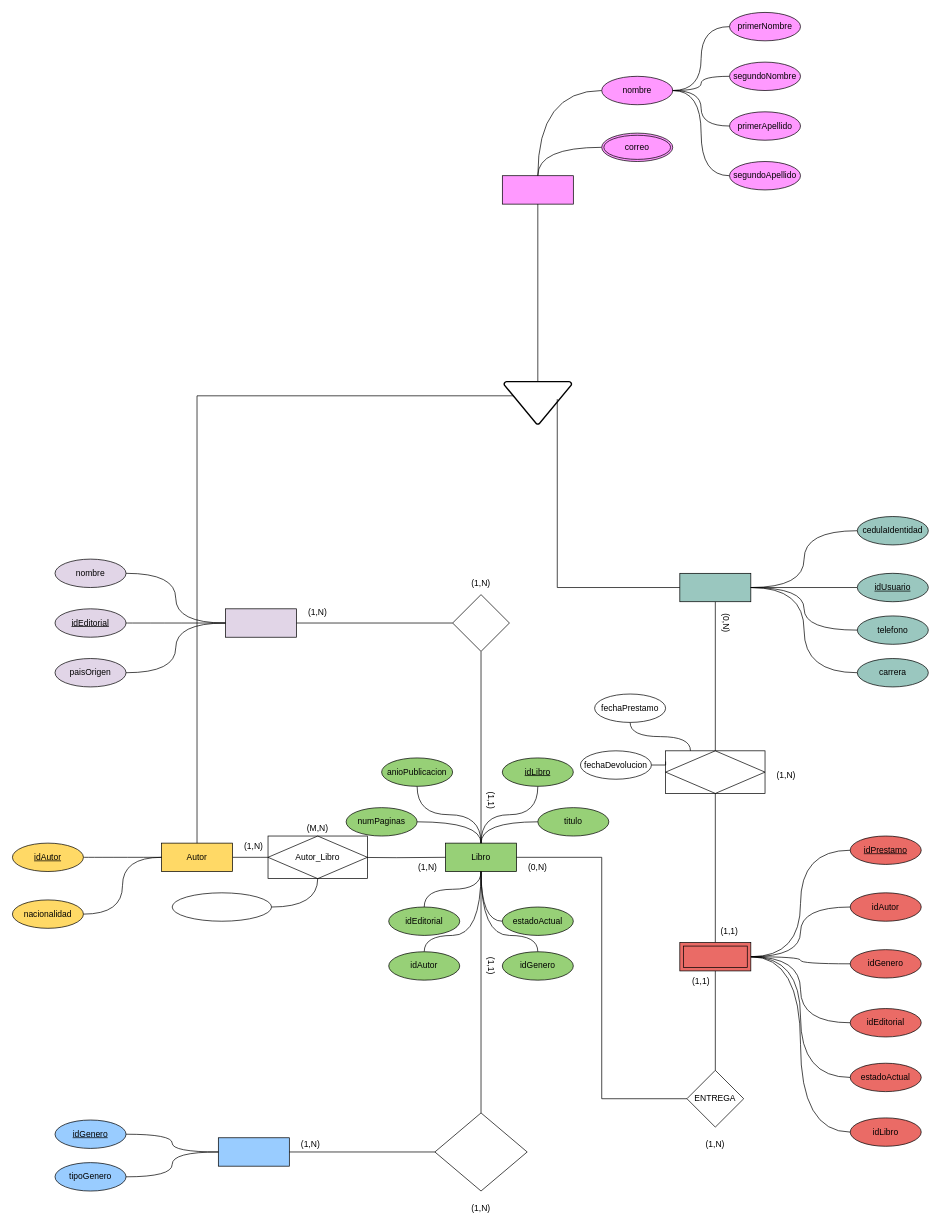
This 941x1232 diagram has some shape labels left out. Here are the shapes that lost their labels. From the top down, the centre of each, then its label:
At [537,189]: "Persona".
At [537,403]: "ISA".
At [715,587]: "Usuario".
At [260,622]: "Editorial".
At [480,622]: "PUBLICA".
At [715,771]: "Usuario_Prestamo".
At [221,906]: "fechaFinalizacionLibro".
At [715,956]: "Prestamo".
At [253,1151]: "Genero".
At [480,1151]: "CORRESPONDE".
